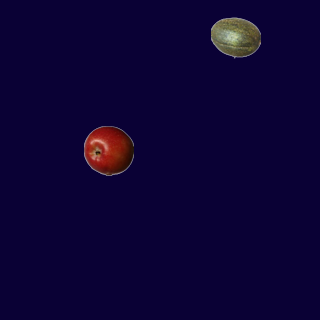Apple Braeburn: (83, 125, 133, 175)
Melon Piel de Sapo: (210, 12, 260, 62)
